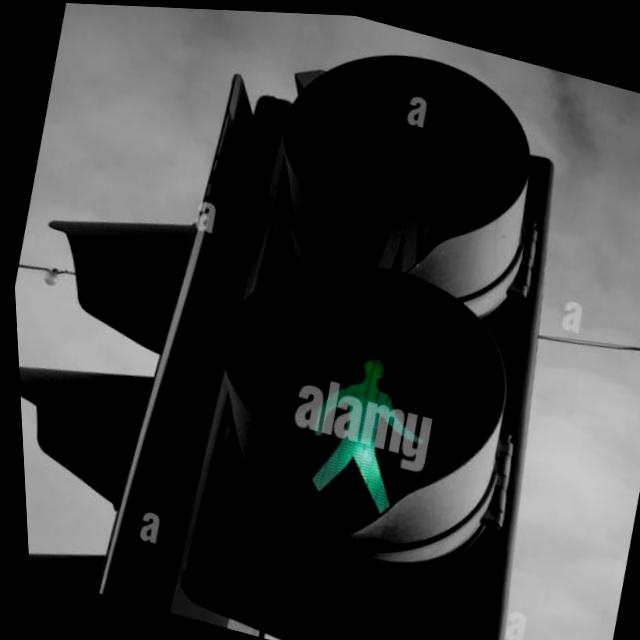green_light: (270, 304, 468, 547)
